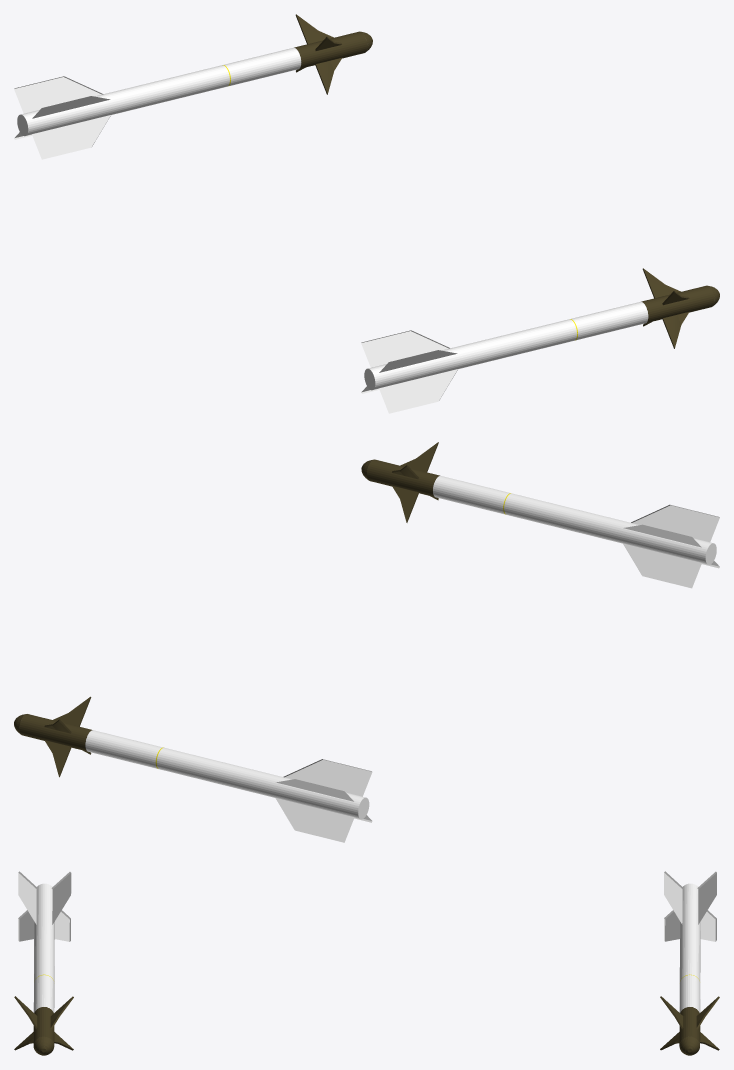
File: f5faim925.glb
3 views of the same model, one above another, from view 1: azimuth 30°, elevation 25°; view 2: azimuth 150°, elevation 25°; view 3: azimuth 270°, elevation 25° (orthographic). The views are drawn at different scales.
Visible parts, largest first — view 1: 円柱.007, 円柱.003; view 2: 円柱.007, 円柱.003; view 3: 円柱.003, 円柱.007.
Boxes of the visible parts, x1,y1,x2,y2 form: 円柱.007: (361,268,719,413); 円柱.003: (14,14,372,159); 円柱.007: (361,442,719,588); 円柱.003: (14,696,372,842); 円柱.003: (660,871,719,1055); 円柱.007: (14,871,73,1055).
Bounding box in the file's own units: 3.38 × 0.543 × 6.37.
2 materials, 2 textured.
